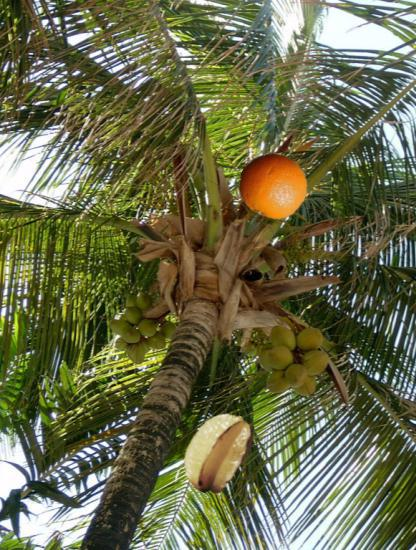Carambula: (174, 409, 260, 495)
Orange: (239, 152, 308, 221)
